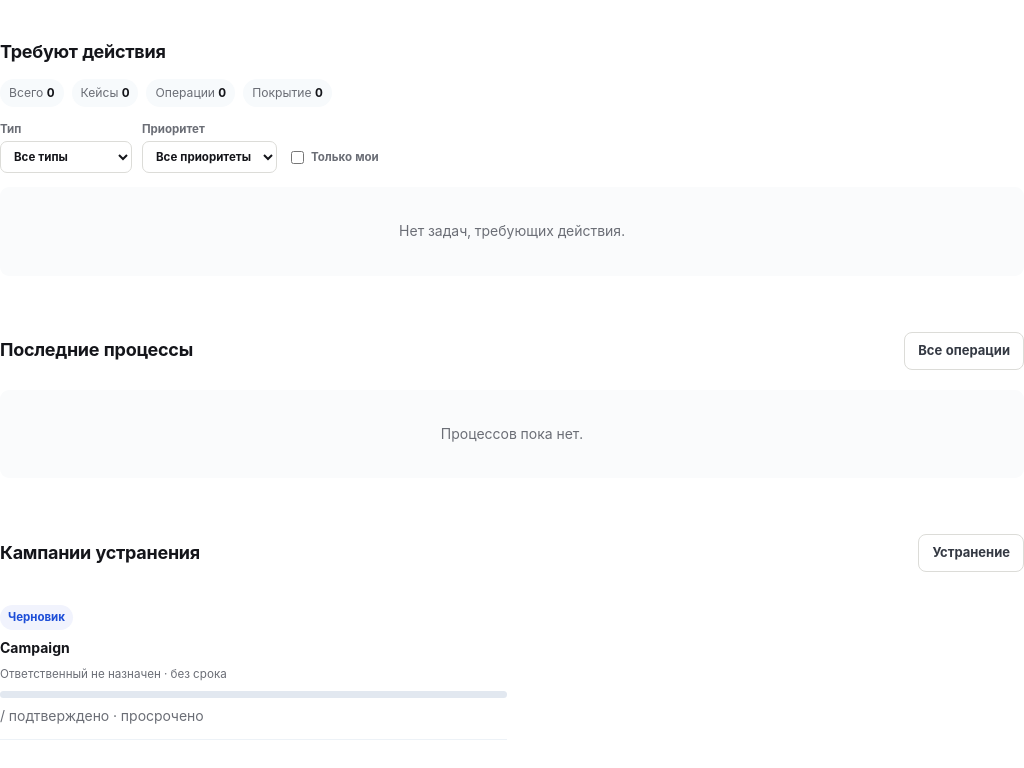
Test case: campaign preserves its draft after conflict and rereads only on operator request
This screenshot has width=1024, height=768.
(page scrolled)
Click the button "Campaign" at x=37, y=617, box [0, 592, 507, 740]
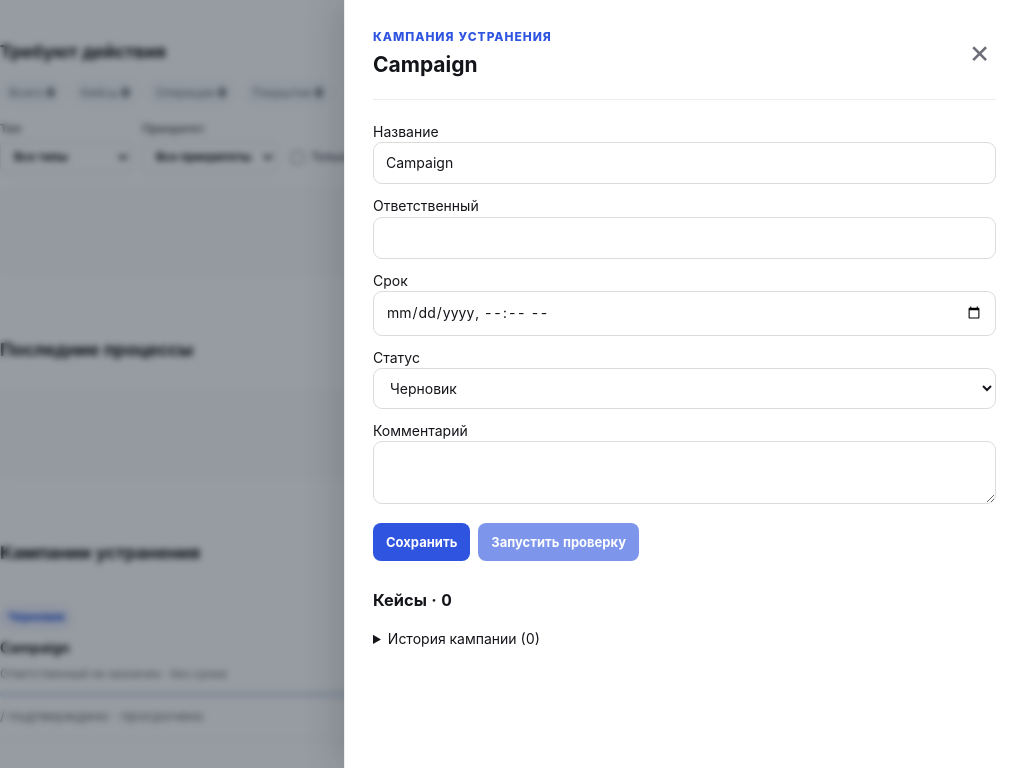
Replace the text in the field labelled "Название" with "My draft" at x=684, y=163, box [373, 142, 996, 184]
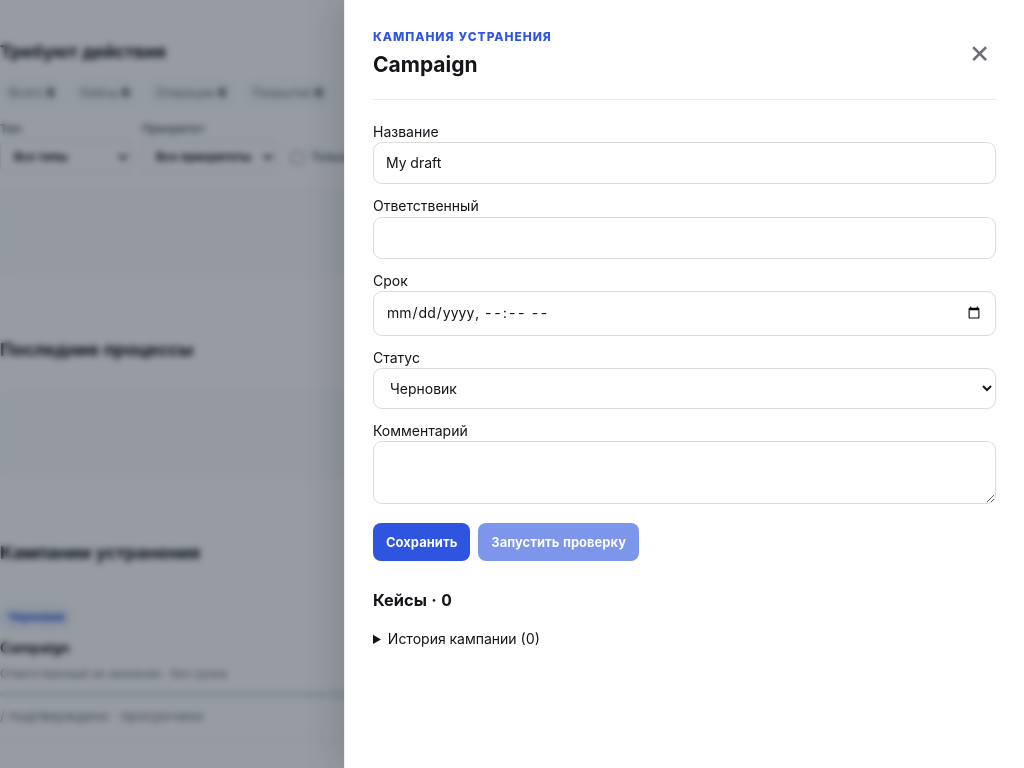
Click the button "Сохранить" at x=422, y=542, box [373, 523, 470, 561]
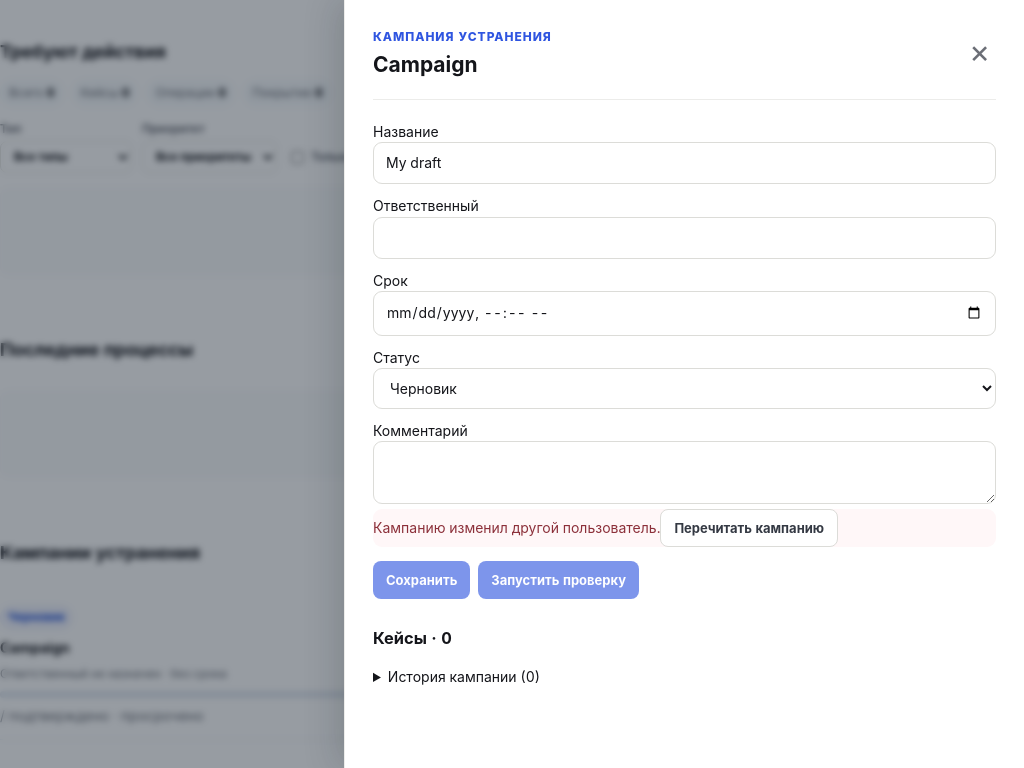
Result: the button "Перечитать кампанию" is shown
Result: the button "Сохранить" is disabled at [373, 561, 470, 599]
Click the button "Перечитать кампанию" at x=749, y=528, box [660, 509, 838, 547]
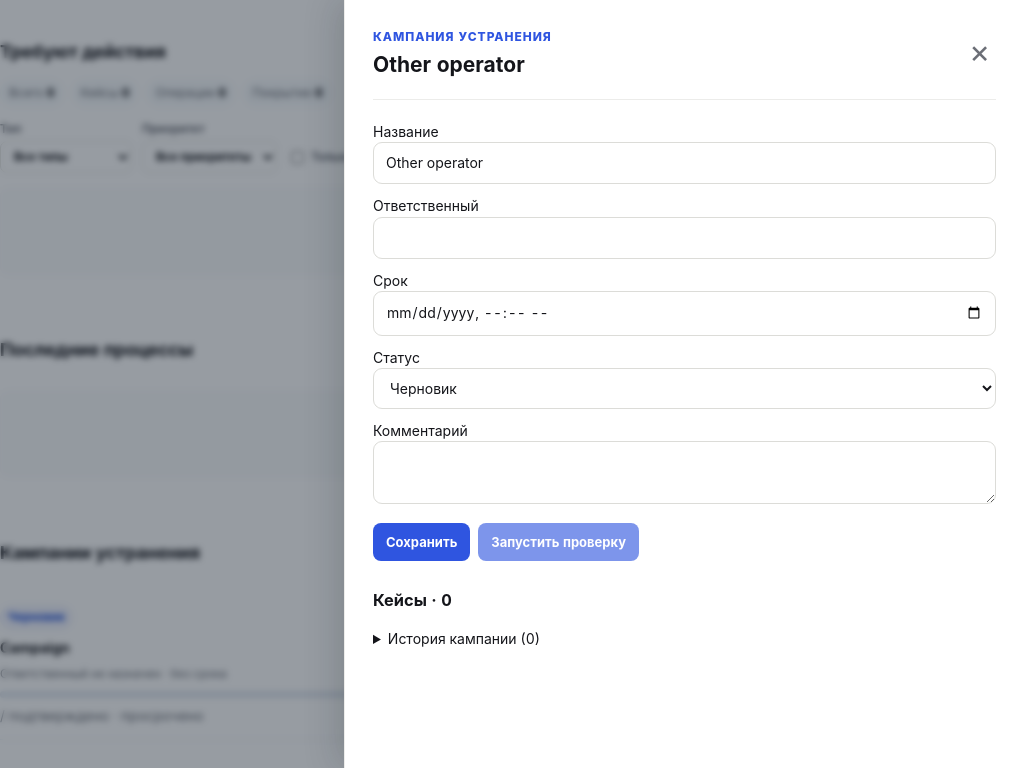
Result: the field labelled "Название" holds "Other operator" at [373, 142, 996, 184]
